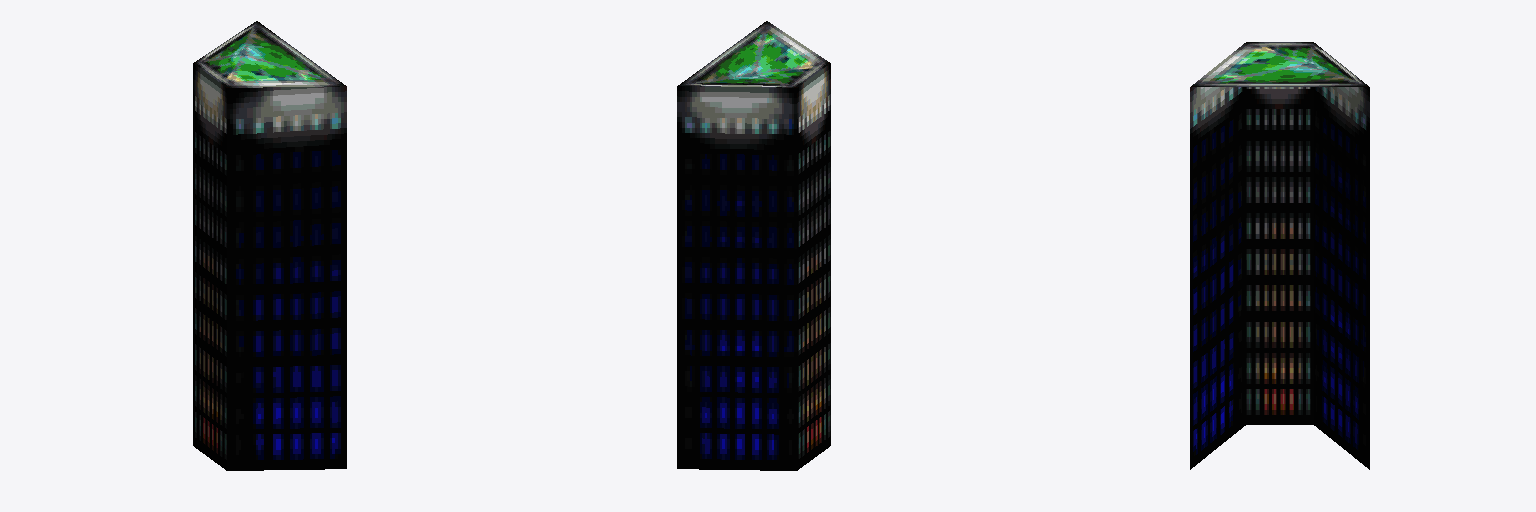
3 views of the same model, side by side, from view 1: azimuth 30°, elevation 25°; view 2: azimuth 150°, elevation 25°; view 3: azimuth 270°, elevation 25° (orthographic).
Size of the model in its own units: 224 by 896 by 380.
Materials: 1 (1 with a texture image).